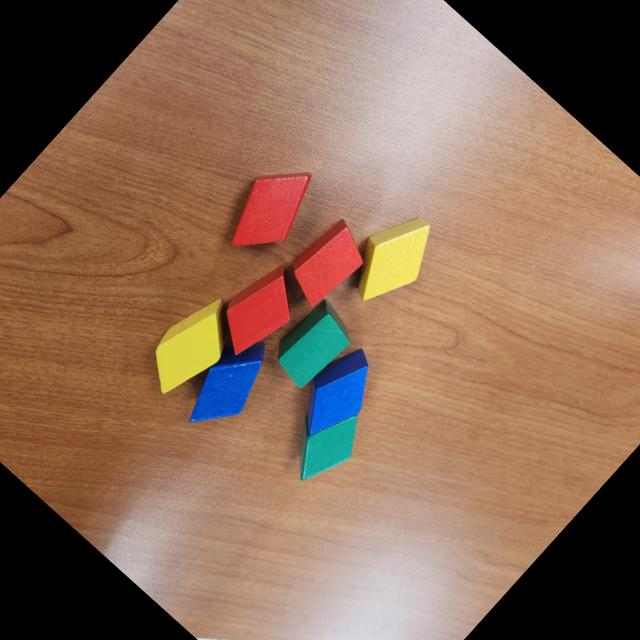blue: (172, 326, 286, 444), (283, 338, 392, 450)
green: (270, 386, 376, 494), (262, 294, 361, 394)
red: (209, 146, 329, 270), (203, 252, 314, 366), (278, 214, 376, 314)
yellow: (134, 286, 250, 406), (335, 200, 449, 317)
